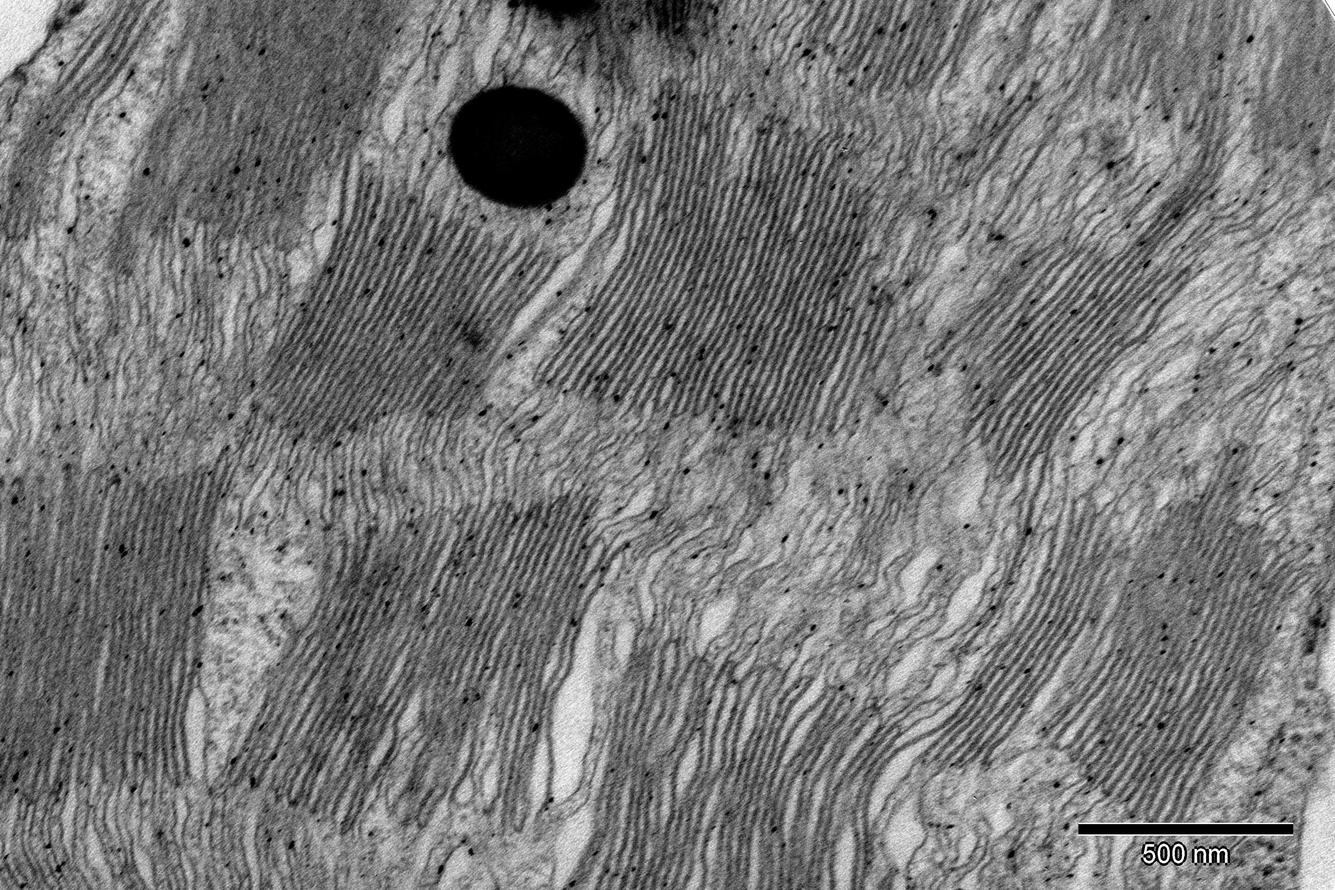granum: (522, 64, 933, 450), (210, 492, 636, 841), (1032, 437, 1321, 855), (223, 148, 567, 460), (947, 142, 1230, 487), (552, 624, 913, 889), (1, 457, 237, 821), (110, 0, 419, 252), (915, 482, 1136, 778), (1, 0, 174, 254), (746, 0, 999, 107), (1065, 0, 1261, 138), (1244, 0, 1334, 190)
